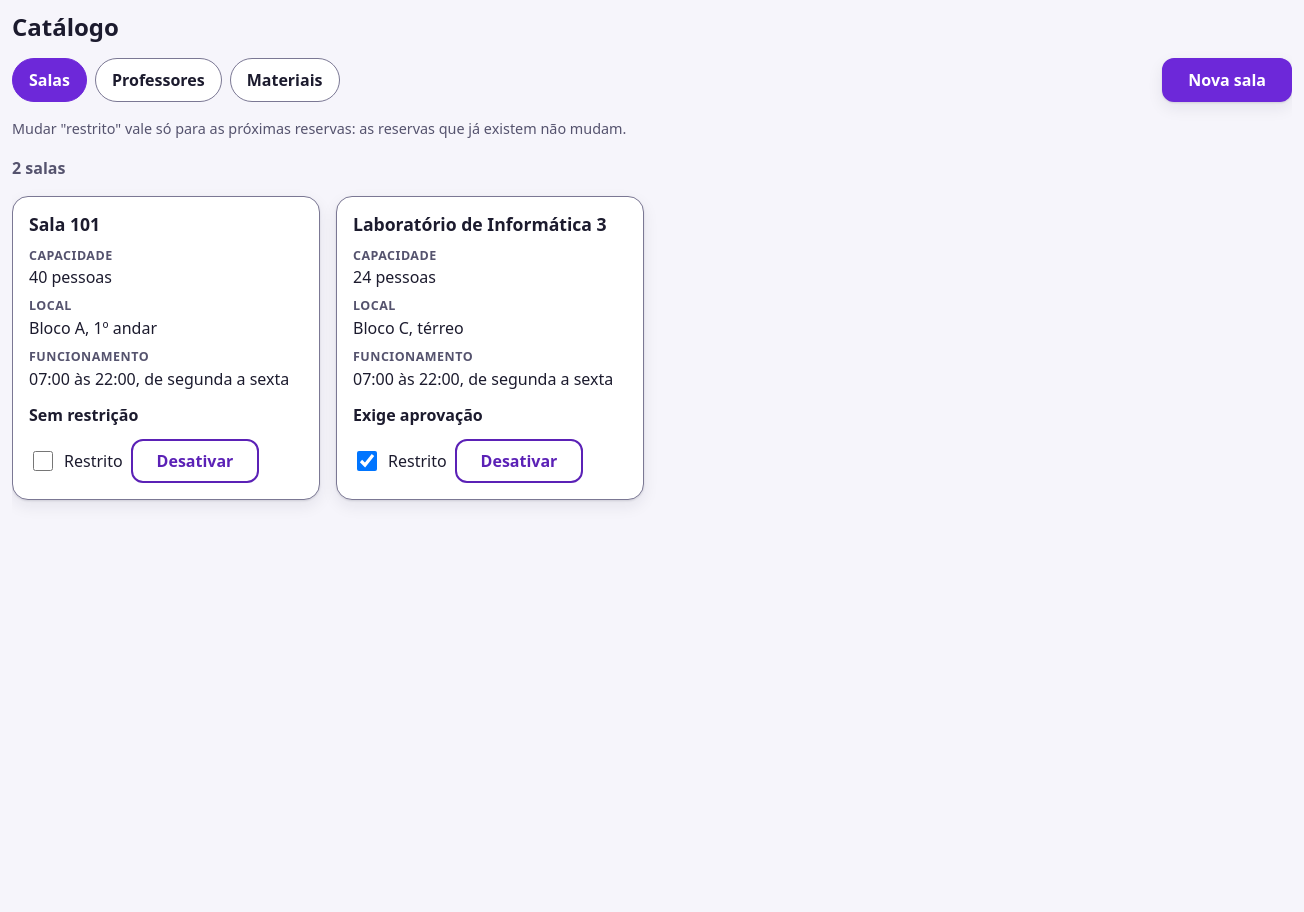
Test: PaginaDoCatalogo: restrito › 404 NAO_ENCONTRADO: a mensagem e a ação da tabela de erros aparecem no cartão, com o foco, e a caixa volta a funcionar
Click the checkbox named "Restrito Sala 101" at (43, 461), box [33, 451, 53, 471]
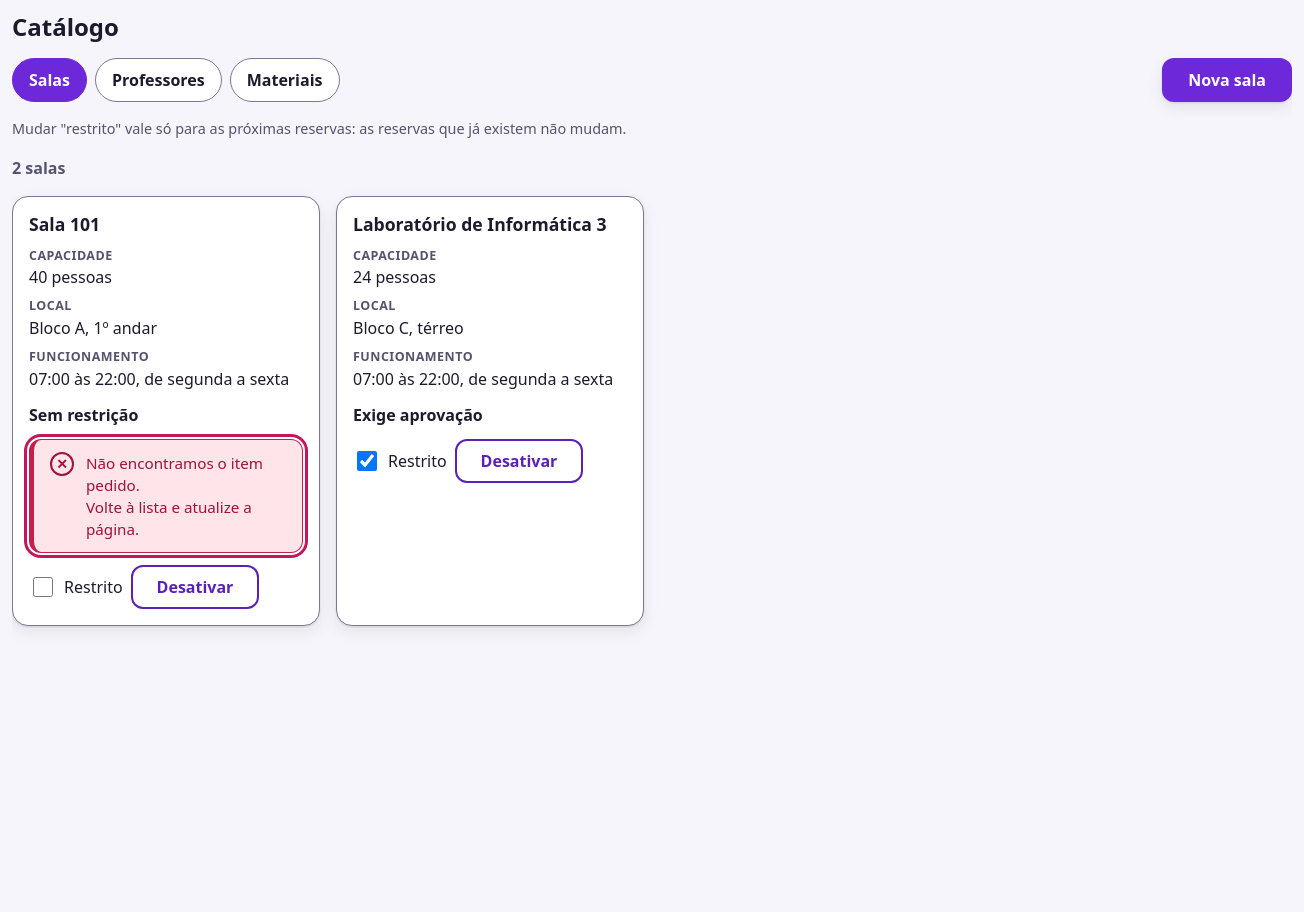
Expected: the checkbox named "Restrito Sala 101" is enabled, [33, 577, 53, 597]
Expected: the message shows "Não encontramos o item pedido.", [86, 453, 263, 495]
